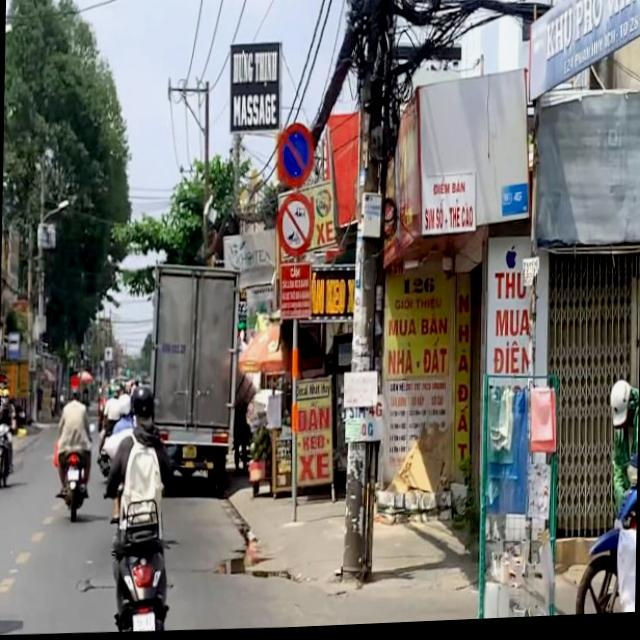Cam do xe: (276, 124, 315, 191)
